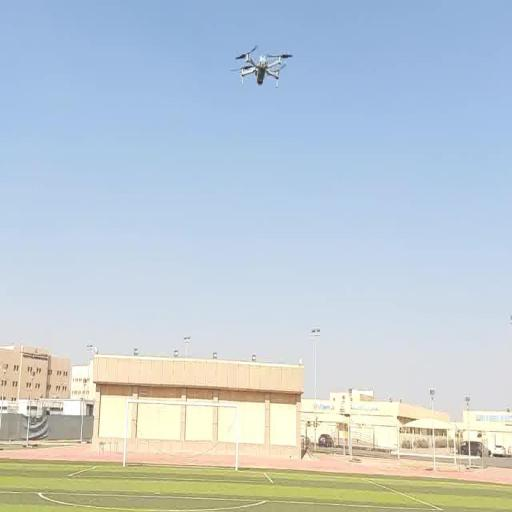drone: (230, 45, 294, 91)
